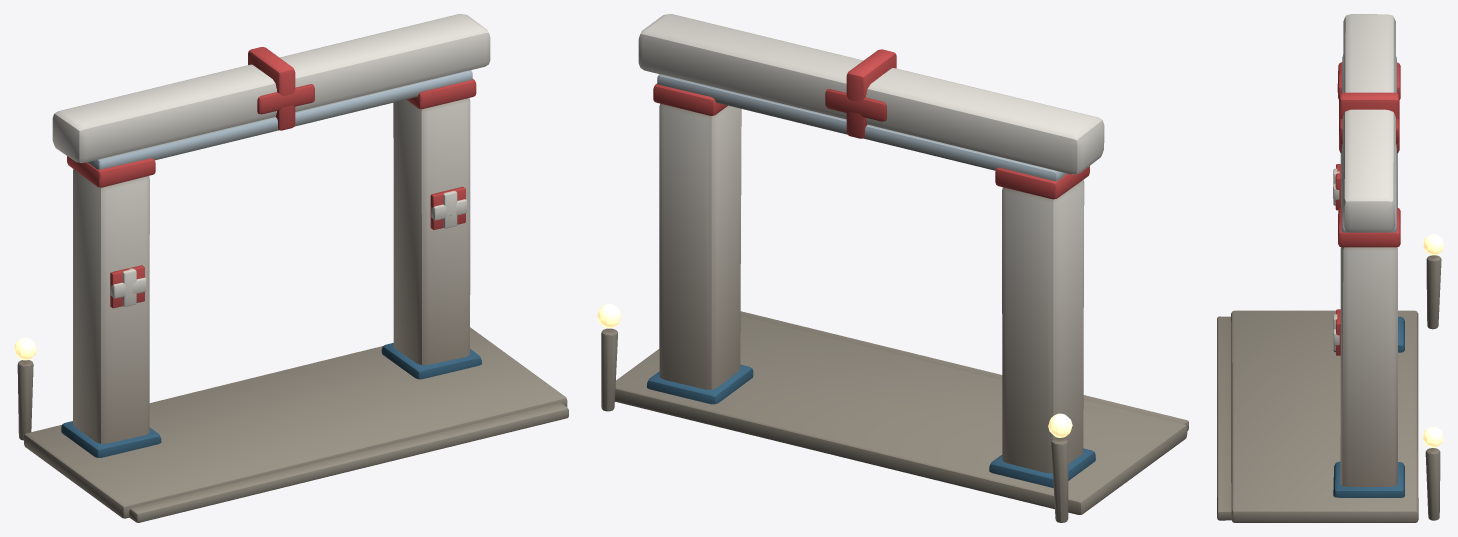
3 renders of one model, left to right at view 1: azimuth 30°, elevation 25°; view 2: azimuth 150°, elevation 25°; view 3: azimuth 270°, elevation 25°, orthographic. The views are drawn at different scales.
Parts seen in each view (by area): view 1: gate_1e08734c; view 2: gate_1e08734c; view 3: gate_1e08734c.
Part boxes in pixels (left/top/right/bottom): gate_1e08734c: left=14, top=14, right=568, bottom=522; gate_1e08734c: left=597, top=14, right=1188, bottom=522; gate_1e08734c: left=1217, top=14, right=1443, bottom=522.
Size of the model in its own units: 5.37 by 4.08 by 2.55.
